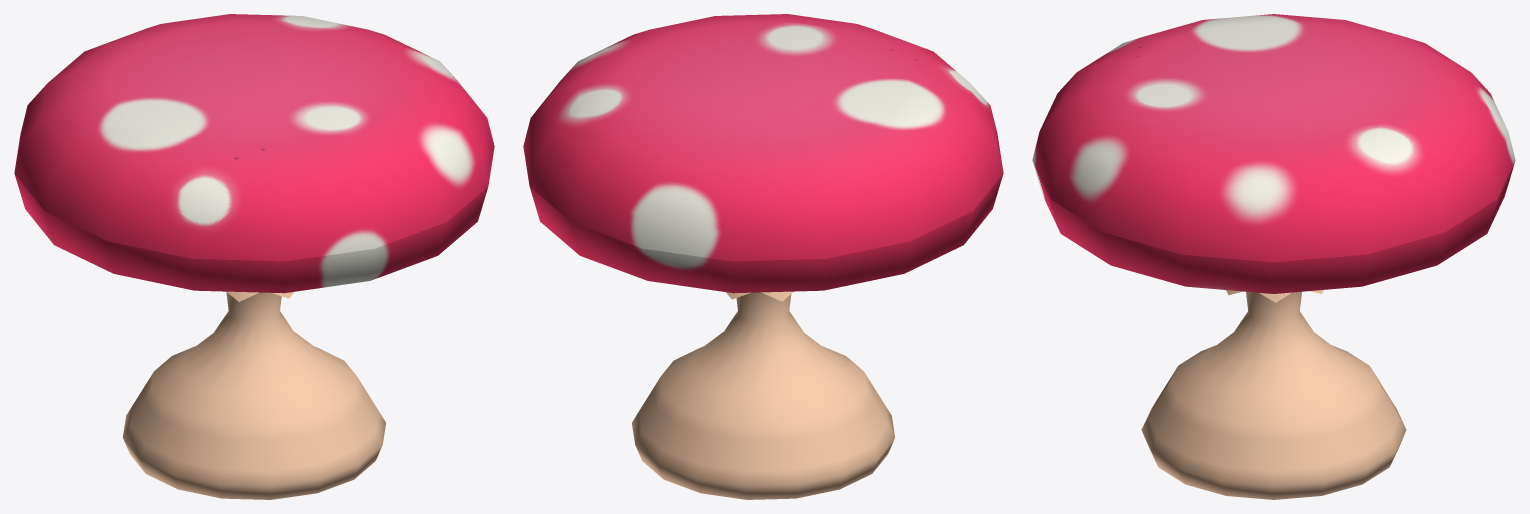
File: Mushroom_Plataforma.fbx
3 renders of one model, left to right at view 1: azimuth 30°, elevation 25°; view 2: azimuth 150°, elevation 25°; view 3: azimuth 270°, elevation 25°, orthographic.
Parts seen in each view (by area): view 1: Plane; view 2: Plane; view 3: Plane.
Part boxes in pixels (left/top/right/bottom): Plane: left=14, top=14, right=494, bottom=499; Plane: left=523, top=14, right=1003, bottom=499; Plane: left=1032, top=14, right=1515, bottom=499.
Bounding box in the file's own units: 522 × 432 × 522.
Materials: 1 (1 with a texture image).
